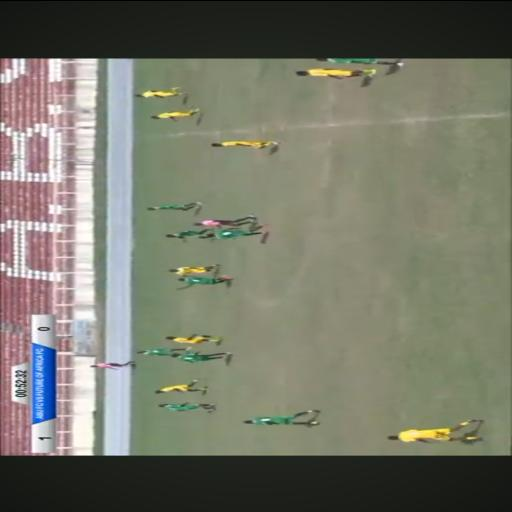referee: (190, 212, 254, 230), (82, 360, 140, 372)
team1: (376, 416, 492, 447), (288, 63, 386, 83), (199, 136, 289, 154), (142, 106, 209, 126), (150, 377, 214, 397), (128, 83, 198, 101), (161, 329, 232, 344), (168, 264, 232, 276)
team2: (230, 405, 330, 431), (160, 273, 238, 293), (202, 224, 272, 244), (150, 397, 224, 415), (135, 198, 209, 214), (304, 57, 416, 65), (160, 227, 220, 241), (165, 350, 233, 362), (136, 346, 194, 356)
